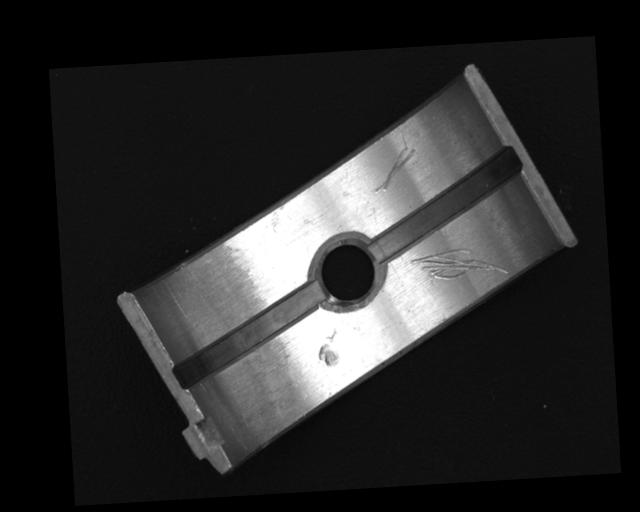bruise: (316, 327, 340, 368)
gap: (366, 147, 525, 261), (169, 280, 324, 389)
hole: (308, 235, 387, 310)
nick: (409, 244, 510, 283), (373, 146, 418, 194)
